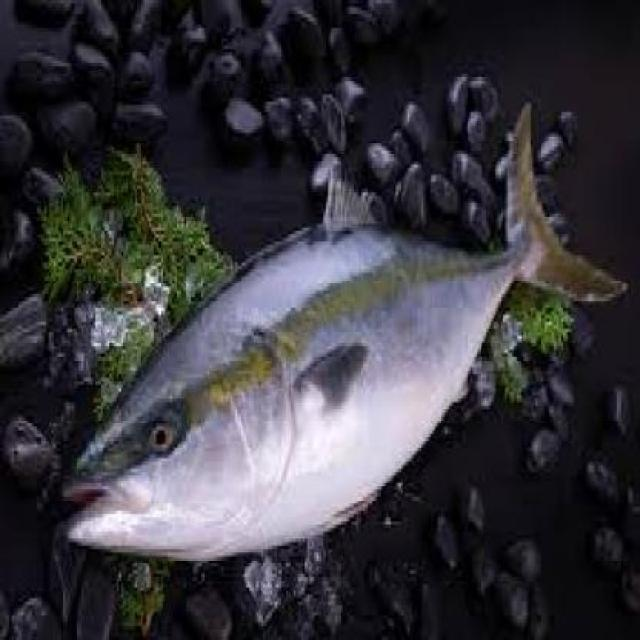Kingfish: (56, 100, 634, 577)
